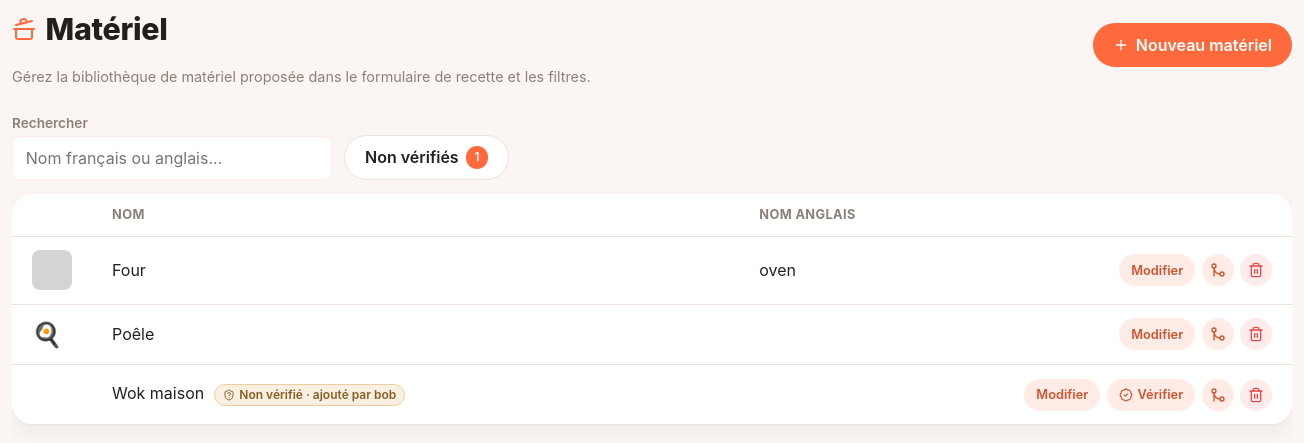
Scenario: AdminCookwareView › review queue › verifies cookware and updates its row
Step 1. Click the button with test id "verify" → (1151, 395), box [1107,379,1195,411]
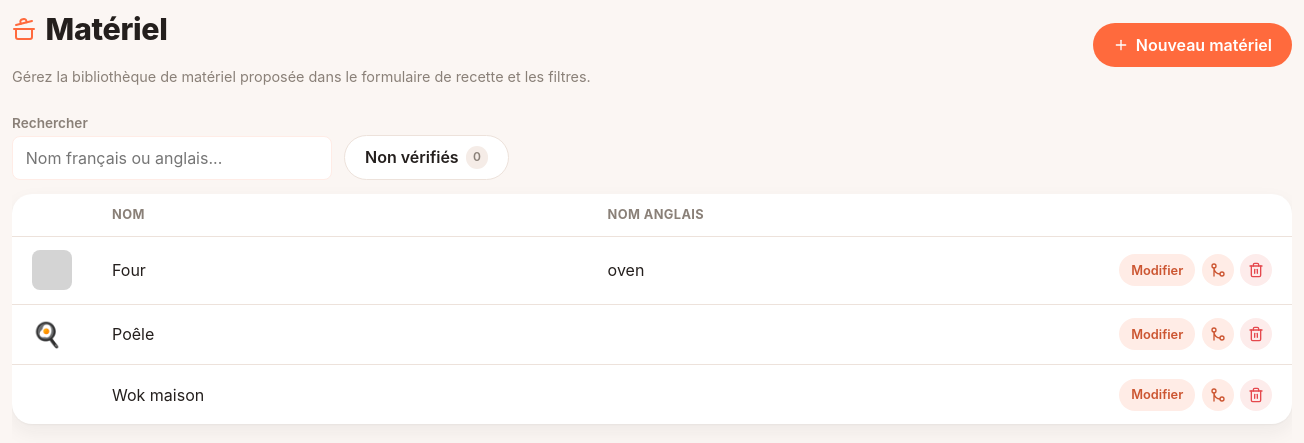
Expected: the text with class "admin-filter-count" reads "0", [473,149,481,164]
